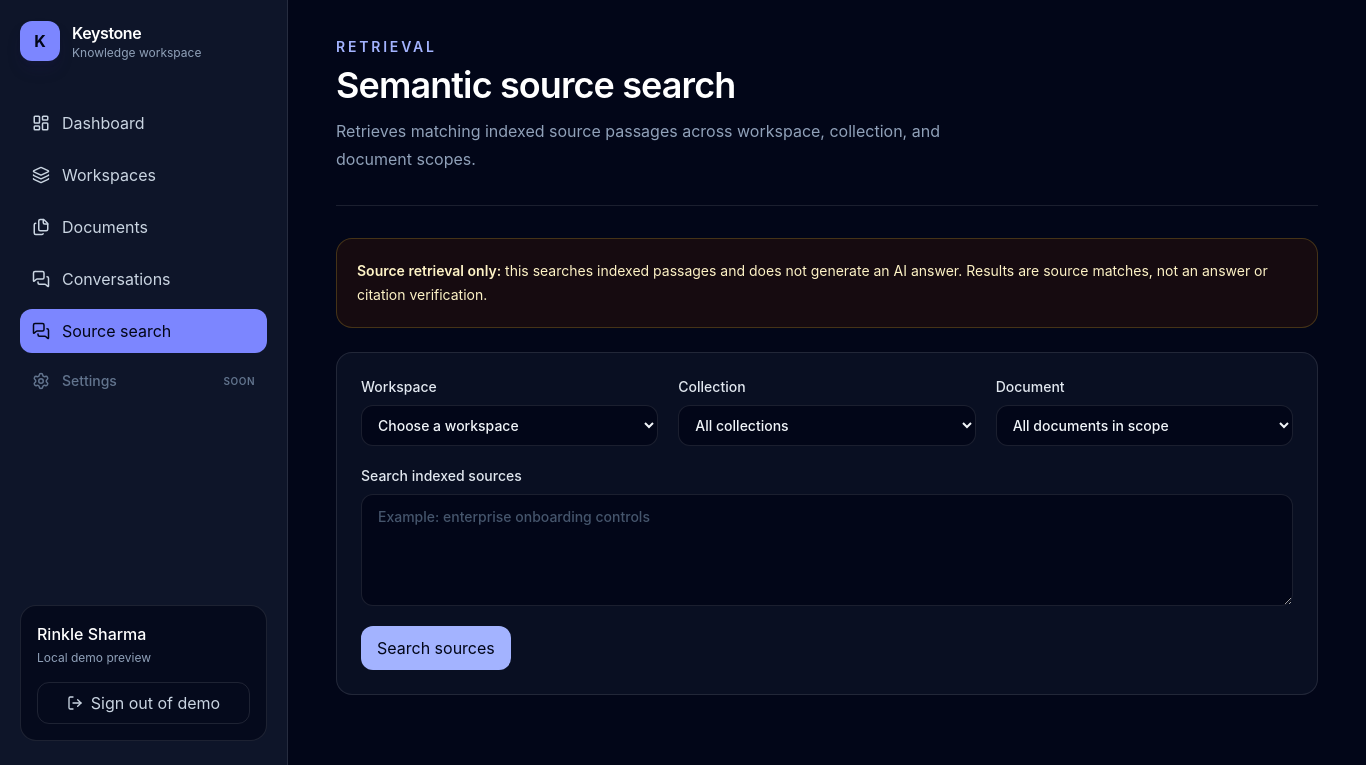
Test case: API-backed semantic source search › performs authenticated document-scoped retrieval and links to its source
Expected: the heading "Semantic source search" is shown, [336, 63, 735, 107]
Expected: the text "Retrieves matching indexed source passages" is shown, [336, 121, 940, 169]
Select "Product research" in the dropdown labelled "Workspace": (510, 426) [361, 405, 658, 446]
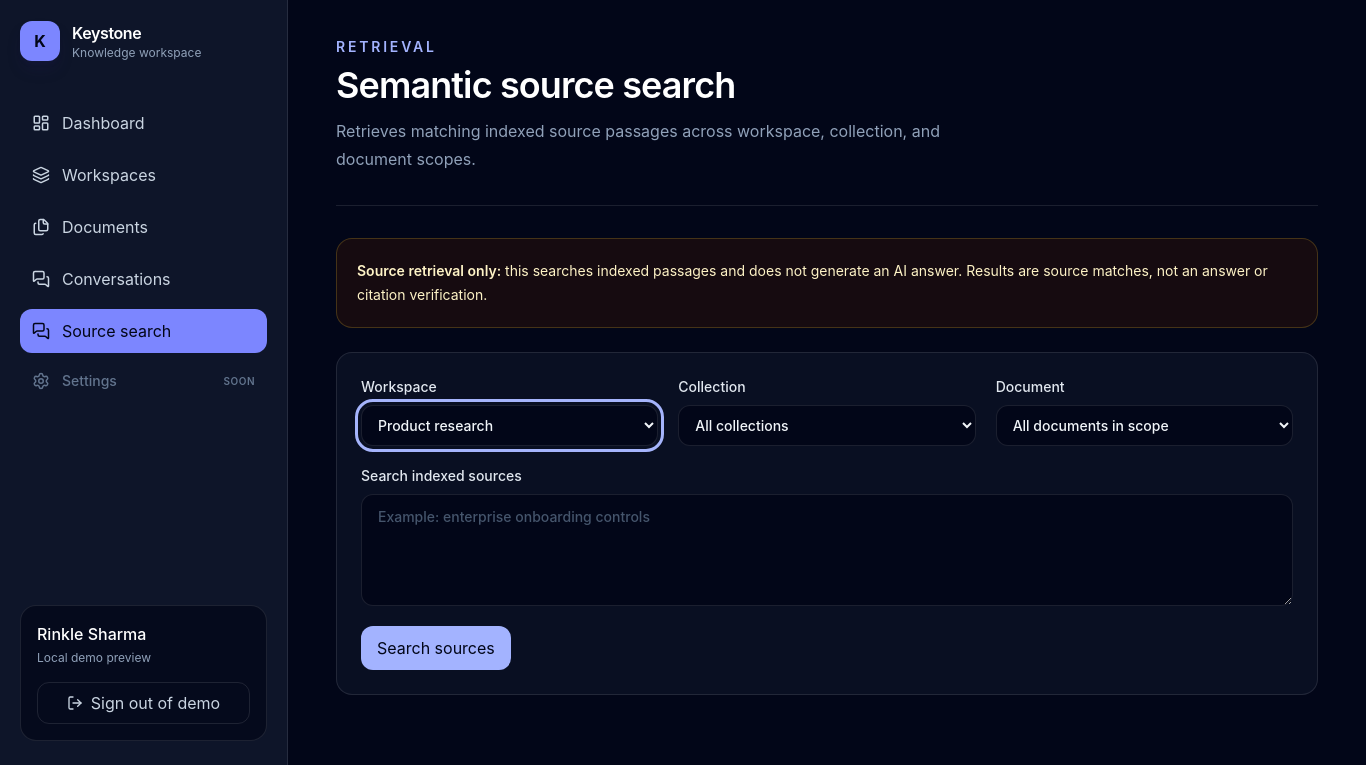
Select "Market intelligence" in the dropdown labelled "Collection": (827, 426) [678, 405, 976, 446]
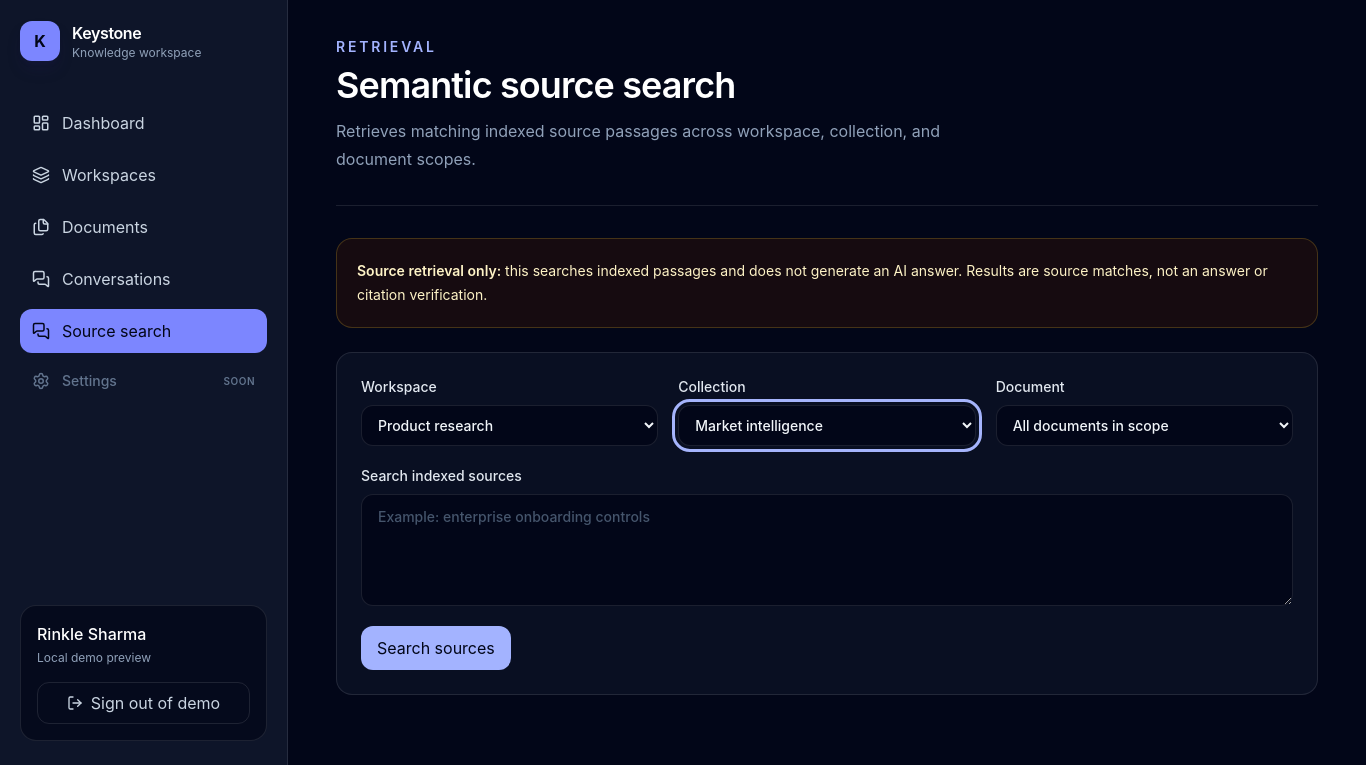
Select "Competitor notes.md" in the dropdown labelled "Document": (1144, 426) [996, 405, 1293, 446]
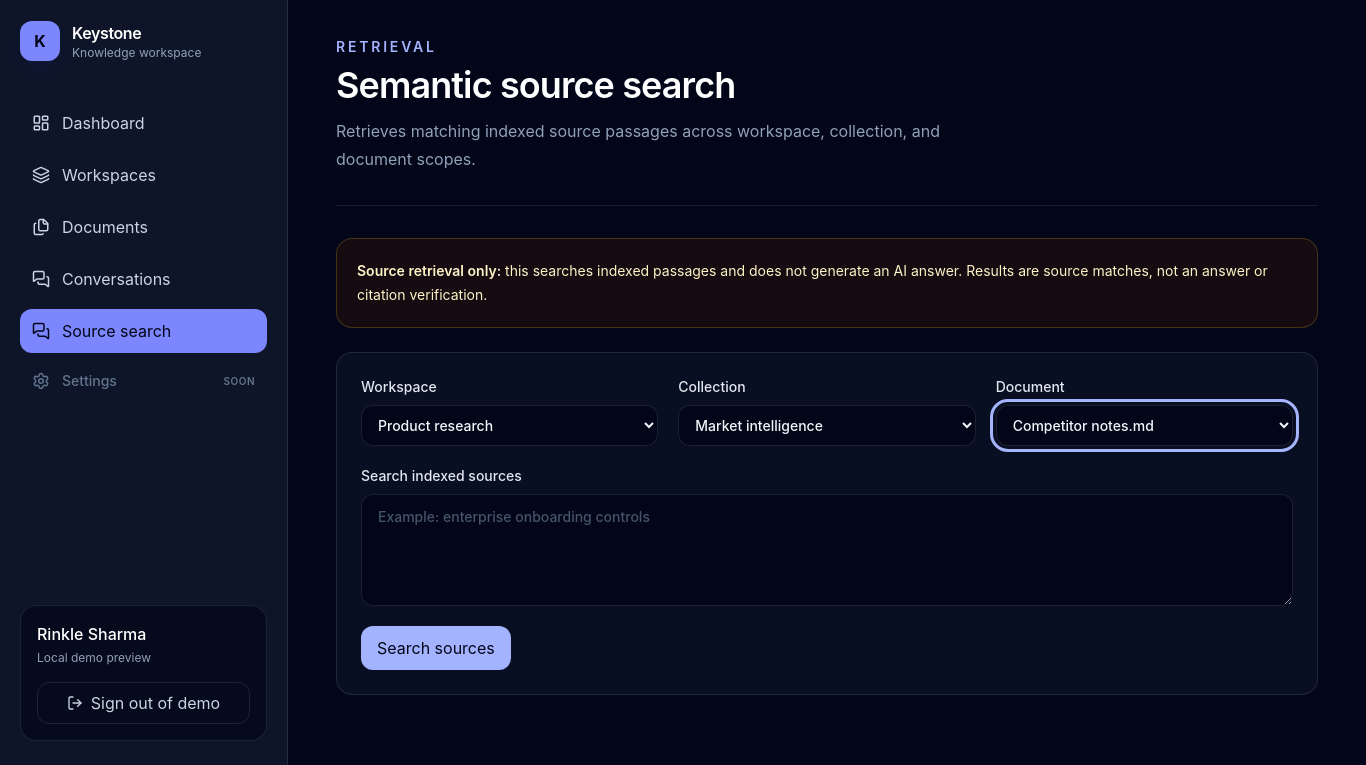
In the text box labelled "Search indexed sources": (827, 550) [361, 494, 1293, 606], type "enterprise onboarding"
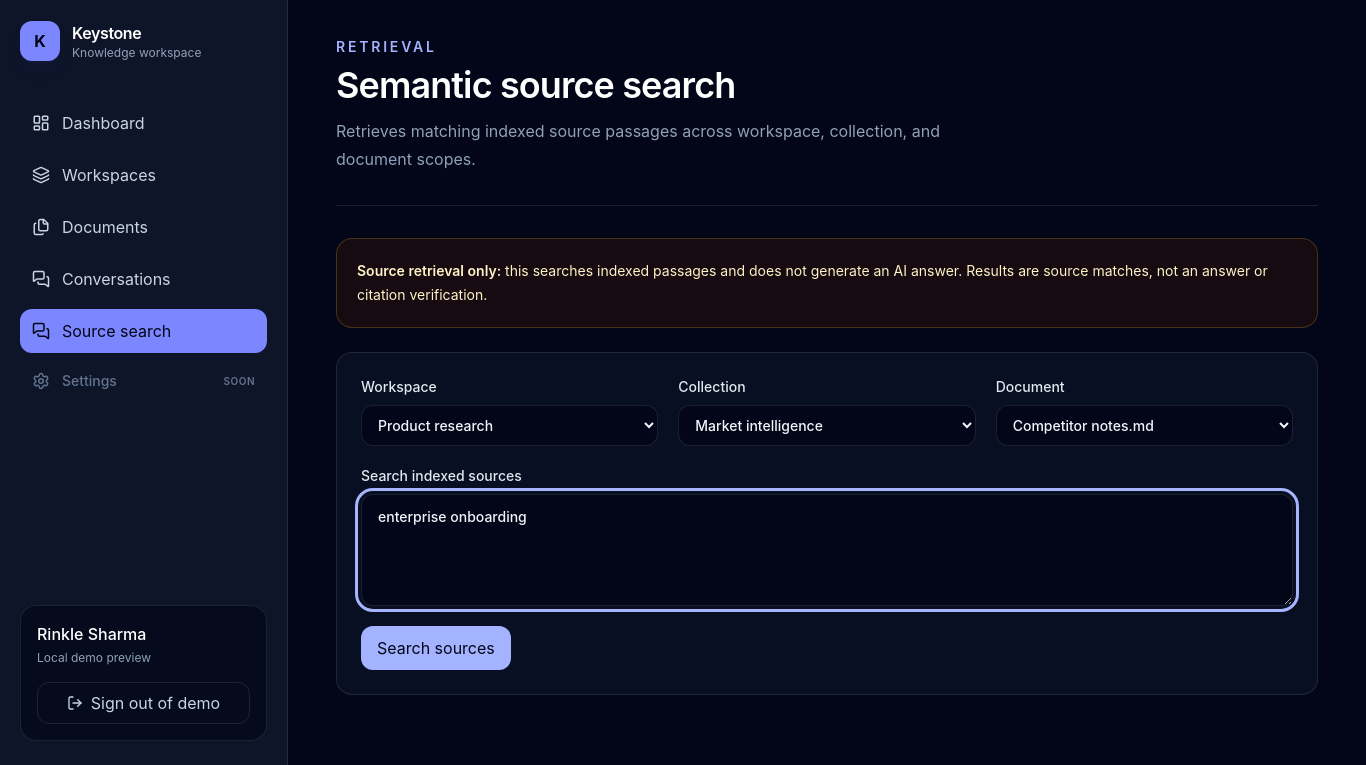
Click the button "Search sources": (436, 648) [361, 626, 511, 670]
(page scrolled)
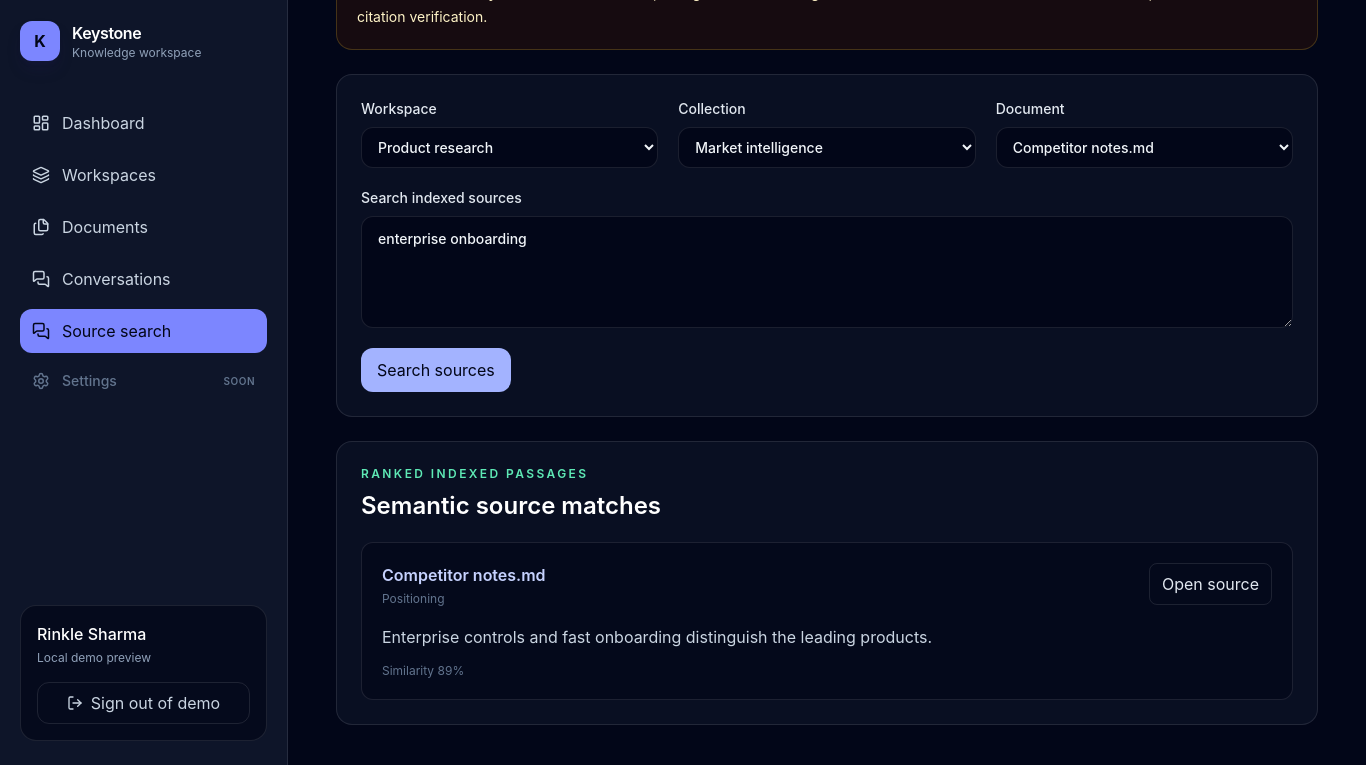
Result: the text "Enterprise controls and fast onboarding distinguish the leading products." is shown at [382, 627, 932, 647]
Result: the text "Positioning" is shown at [382, 591, 444, 606]
